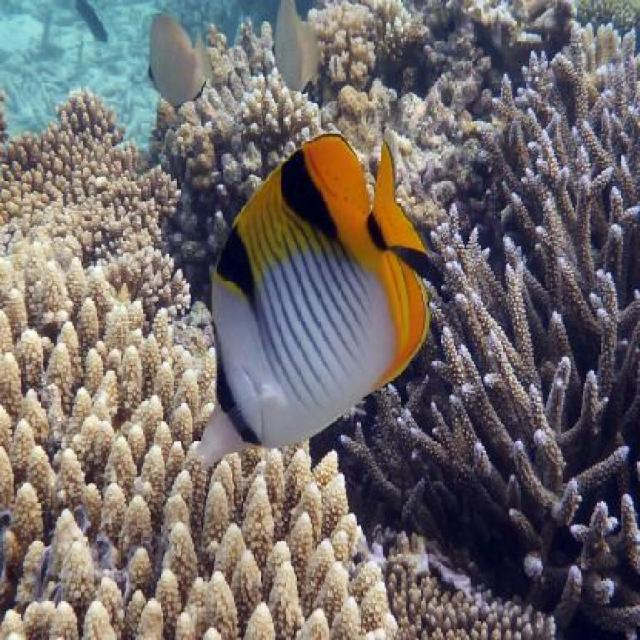ButterflyFish: (191, 133, 437, 469)
